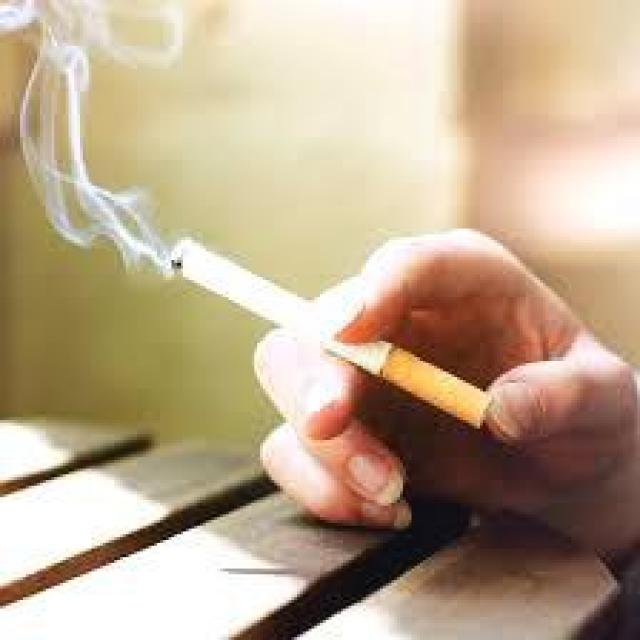cigarette: (163, 231, 494, 426)
